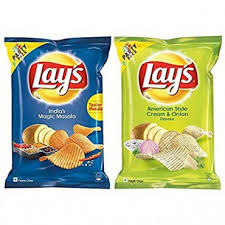lays-large: (114, 31, 221, 189), (5, 33, 112, 189)
